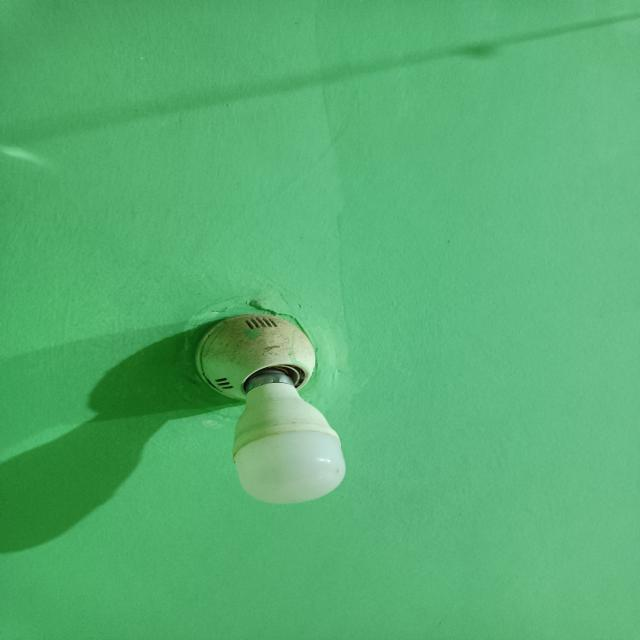bulb_off: (195, 314, 350, 504)
